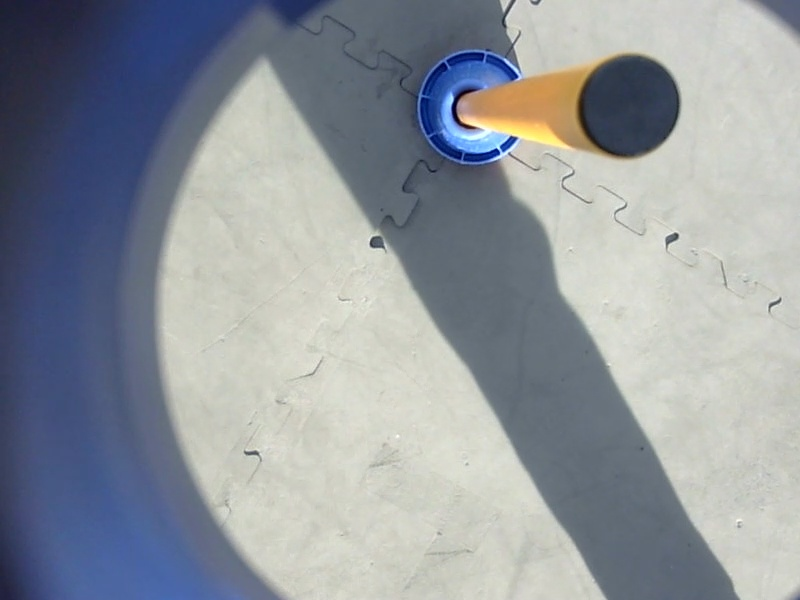tip: (569, 45, 687, 166)
